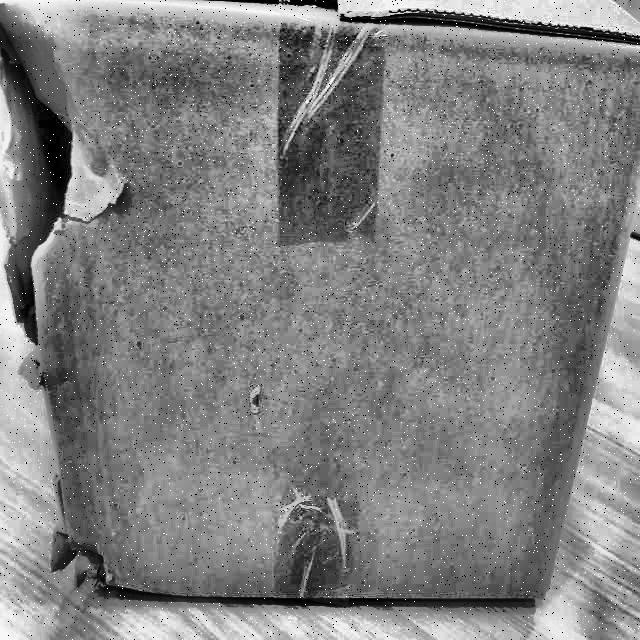box: (1, 0, 640, 615)
hole: (1, 6, 89, 327), (43, 532, 119, 604)
